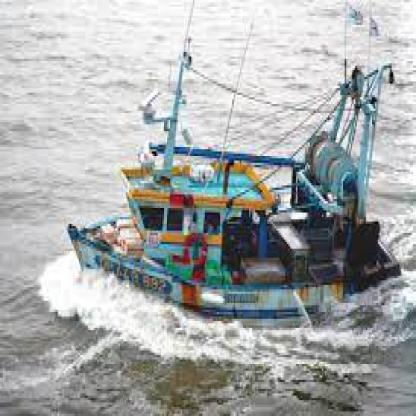fish-b: (64, 14, 407, 330)
